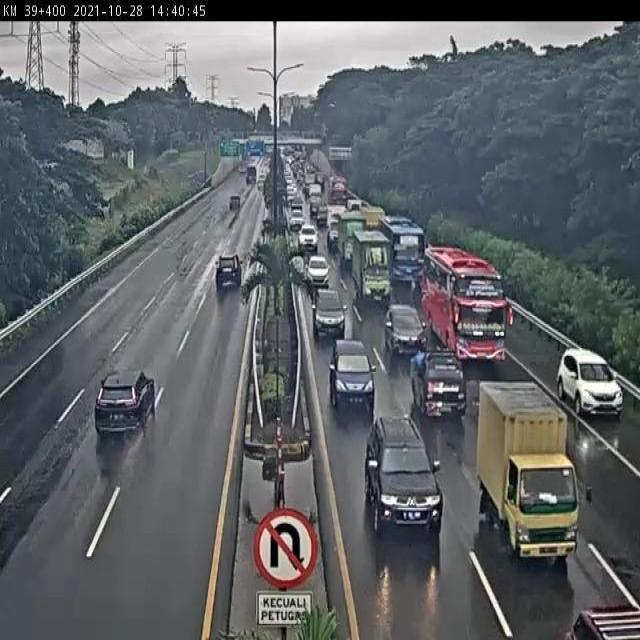car: (364, 416, 445, 539), (559, 347, 625, 417), (411, 352, 468, 420), (329, 337, 376, 411), (382, 305, 425, 359), (313, 288, 348, 337), (213, 251, 243, 287), (304, 252, 331, 288)
truck: (477, 380, 579, 563), (422, 244, 508, 367), (94, 367, 158, 436), (379, 220, 425, 288), (351, 230, 392, 302)
